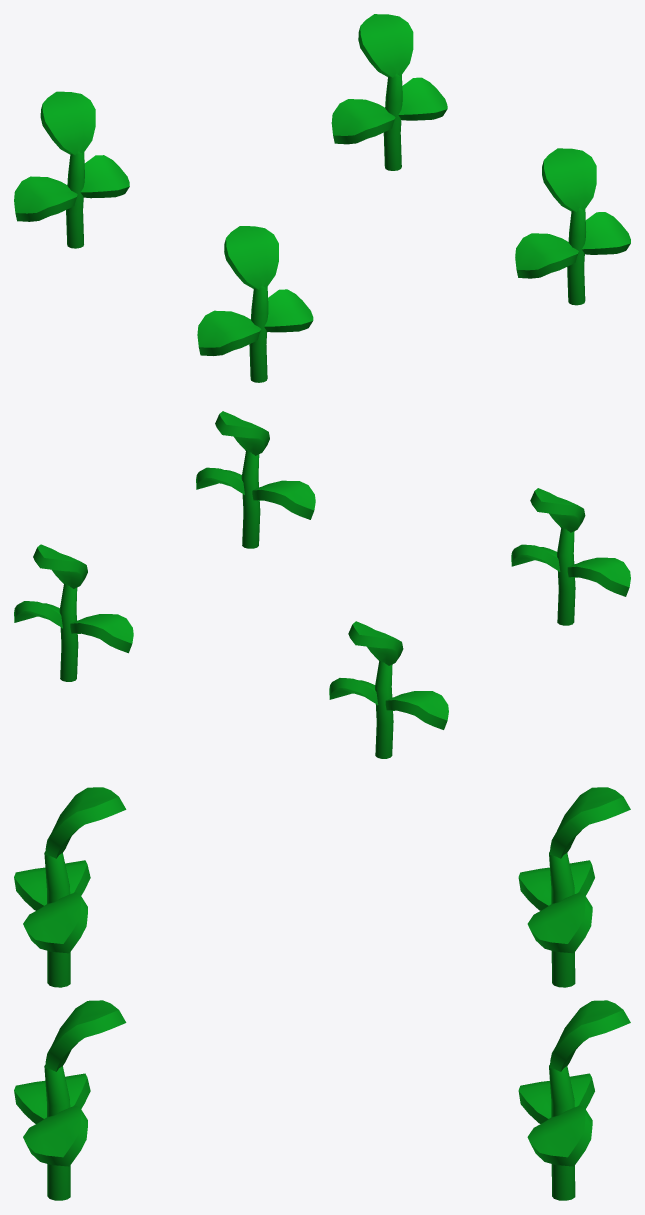
The model's file is Farm_Crop_Daisy_Step_01.fbx.
3 views of the same model, one above another, from view 1: azimuth 30°, elevation 25°; view 2: azimuth 150°, elevation 25°; view 3: azimuth 270°, elevation 25° (orthographic). The views are drawn at different scales.
Visible parts, largest first — view 1: Farm_Crop_Daisy_Step_01; view 2: Farm_Crop_Daisy_Step_01; view 3: Farm_Crop_Daisy_Step_01.
Part boxes in pixels (x1,y1,x2,y2): Farm_Crop_Daisy_Step_01: (14, 14, 630, 382); Farm_Crop_Daisy_Step_01: (14, 411, 630, 758); Farm_Crop_Daisy_Step_01: (14, 787, 630, 1200).
Size of the model in its own units: 136 by 41.4 by 122.
